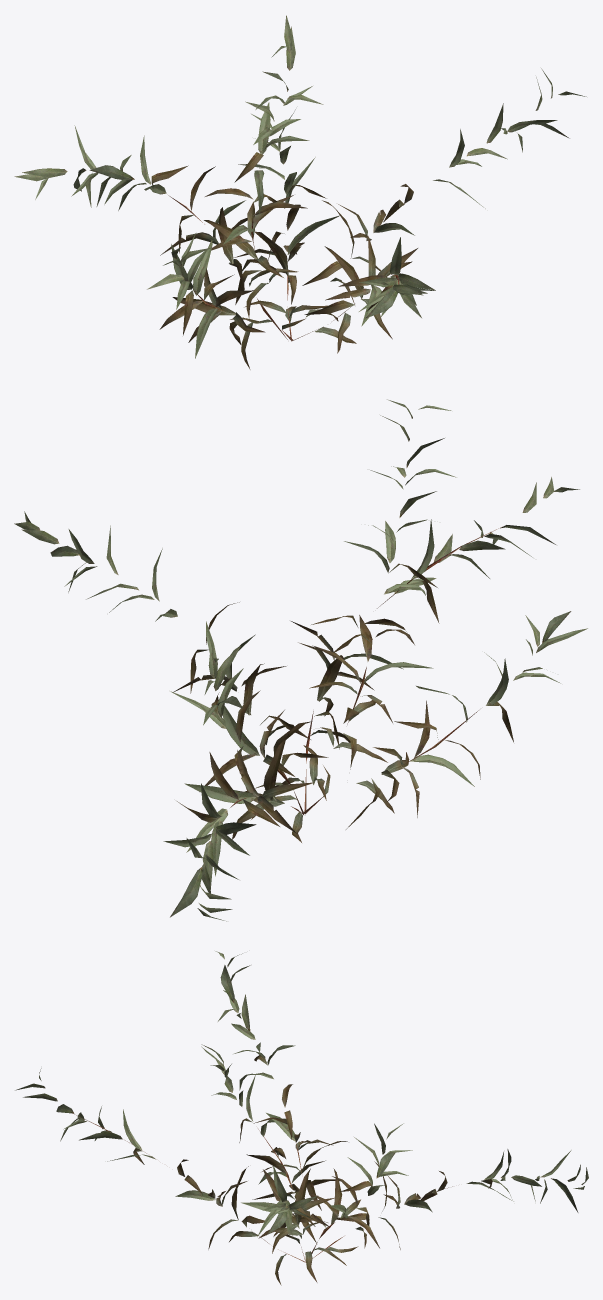
The model's file is shrub.glb.
The picture shows the model from 3 angles, top to bottom: view 1: azimuth 30°, elevation 25°; view 2: azimuth 150°, elevation 25°; view 3: azimuth 270°, elevation 25°; orthographic projection. The views are drawn at different scales.
Parts seen in each view (by area): view 1: shrub_02_c; view 2: shrub_02_c; view 3: shrub_02_c.
Part boxes in pixels (x1=…): shrub_02_c: x1=14, y1=15, x2=586, y2=369; shrub_02_c: x1=14, y1=399, x2=587, y2=921; shrub_02_c: x1=15, y1=951, x2=588, y2=1285.
Size of the model in its own units: 1.77 by 1.31 by 2.28.
Materials: 1 (1 with a texture image).
